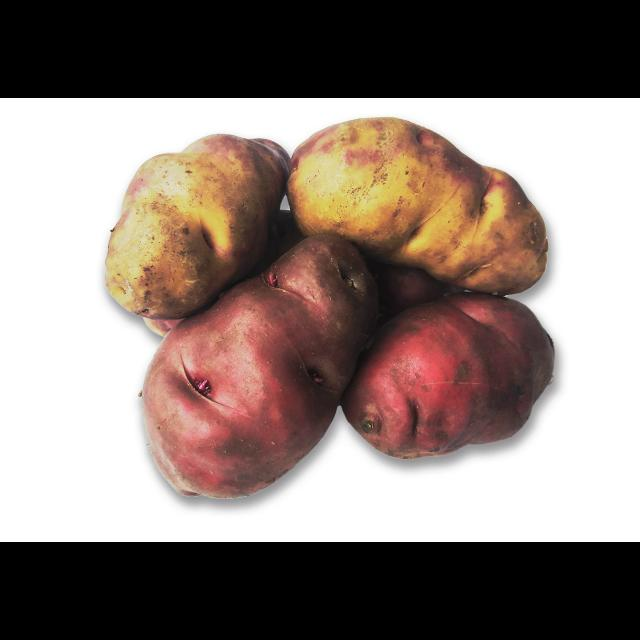Defected potato: (138, 233, 382, 503), (330, 292, 558, 462)
Diseased-fungal potato: (288, 114, 552, 296), (104, 135, 290, 321)
